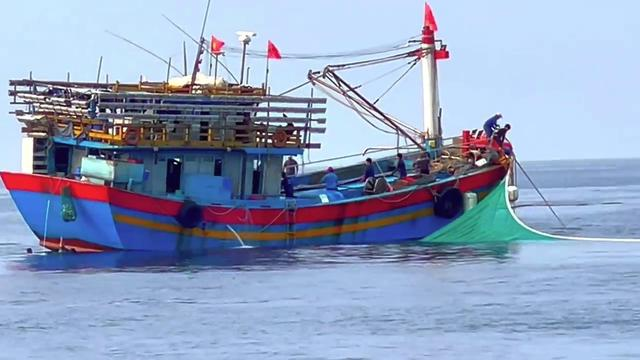Ship: (6, 53, 542, 258)
